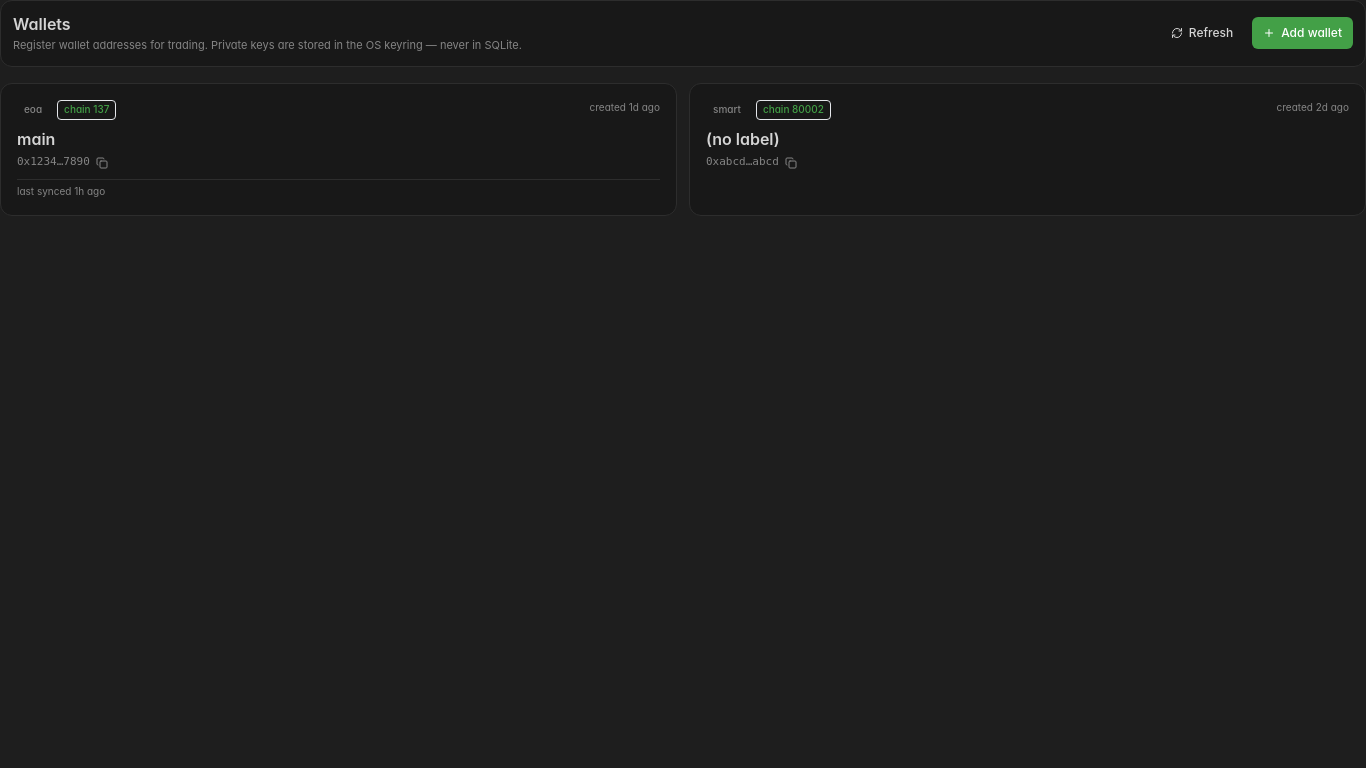
Test: Wallets (extended) › opens AddWalletModal when Add button is clicked
expect the text "main" is shown: met, box [17,129,55,149]
What coordinates should you click on to do the following:
click the button "Add wallet"
I would click on:
 (1303, 33)
Its box is [1252,17,1353,49].
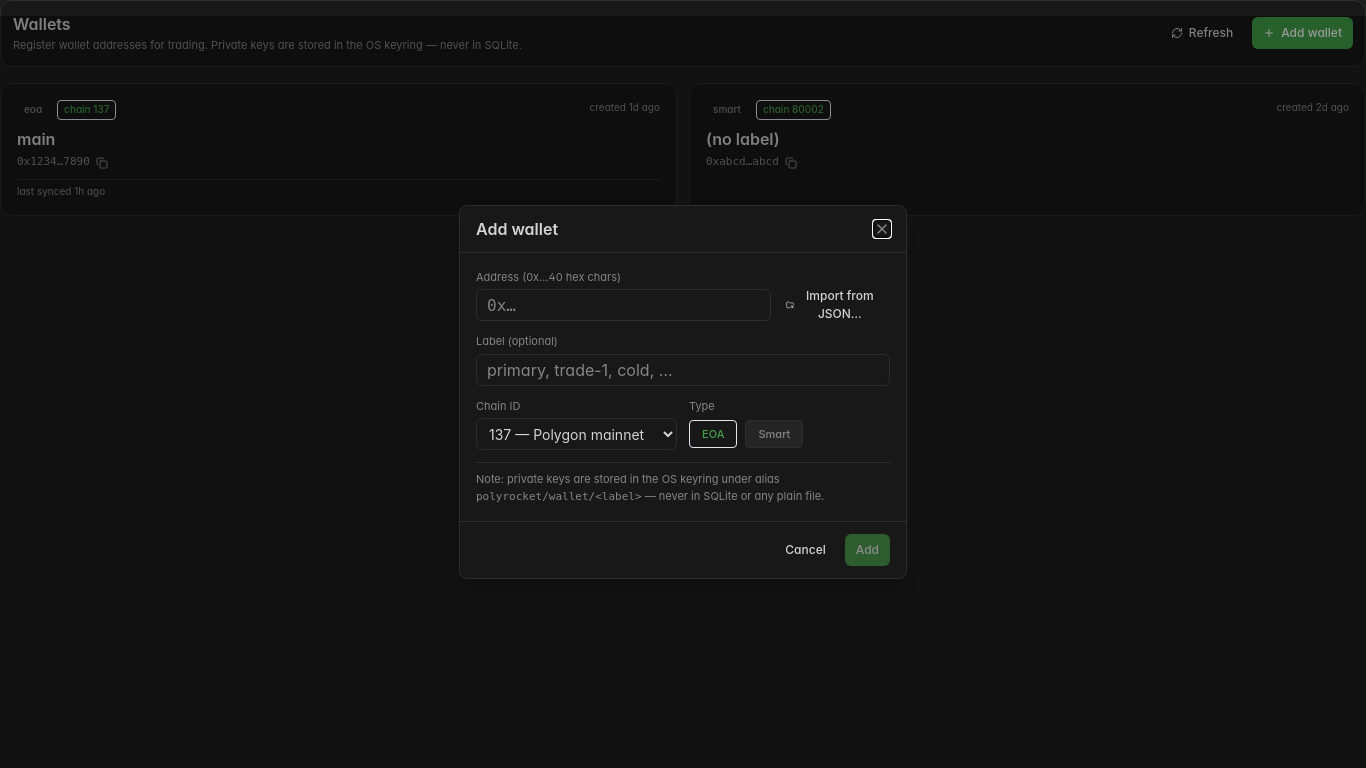
expect the field with placeholder "0x…" is shown: met, box [476,289,772,321]
